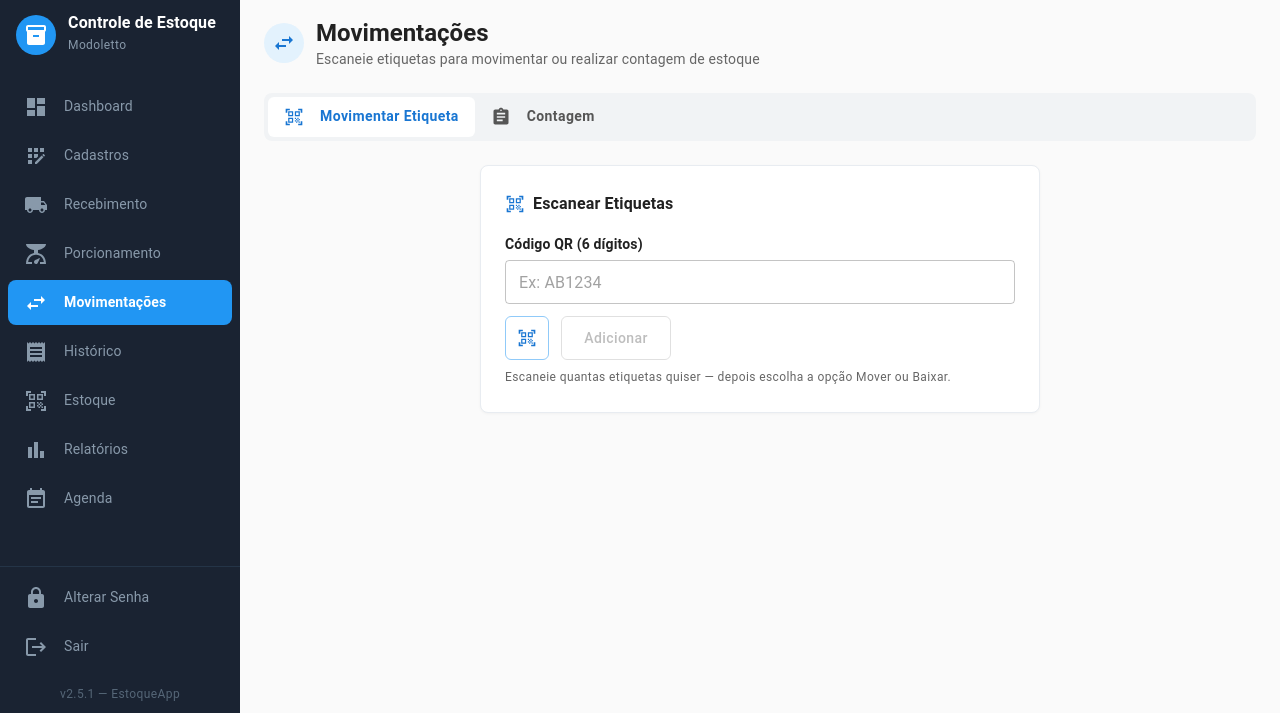
Test: Counting write-offs require a motivo › does not delete anything while the motivo dialog is not confirmed
Click the tab "Contagem": (543, 117) x1=475 y1=97 x2=611 y2=137
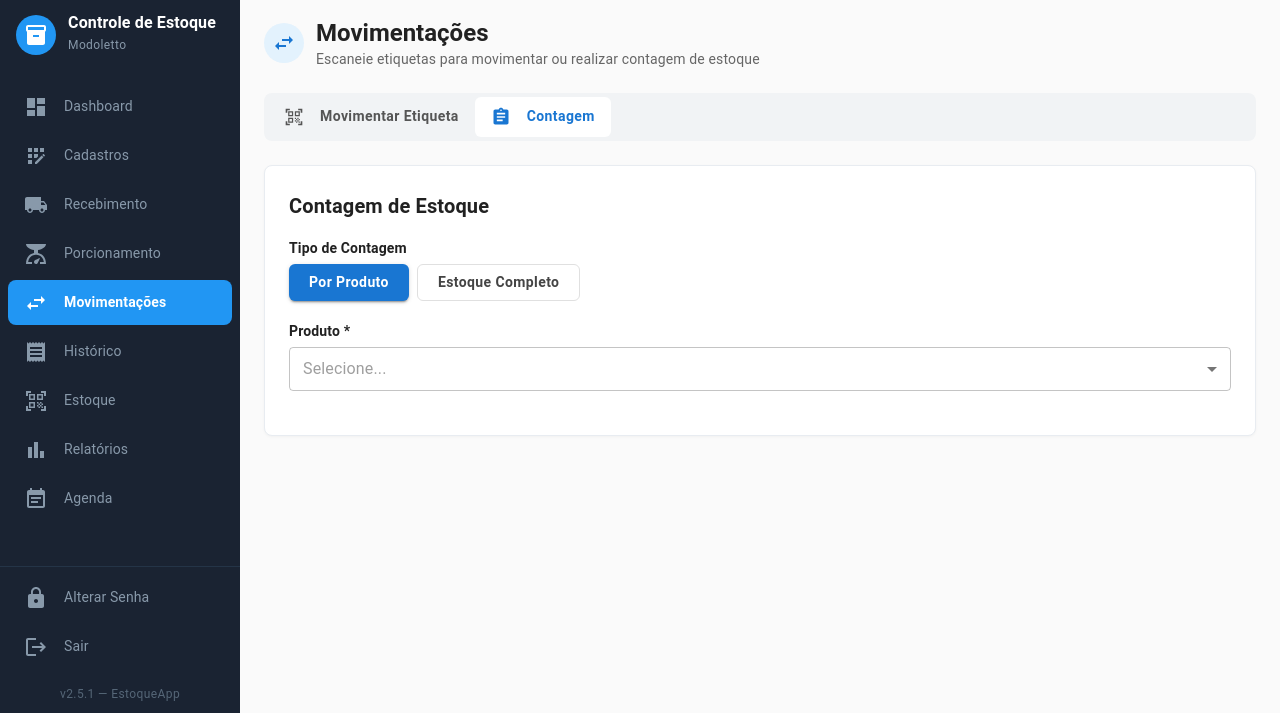
Click the button "Estoque Completo": (499, 282) x1=417 y1=264 x2=580 y2=300
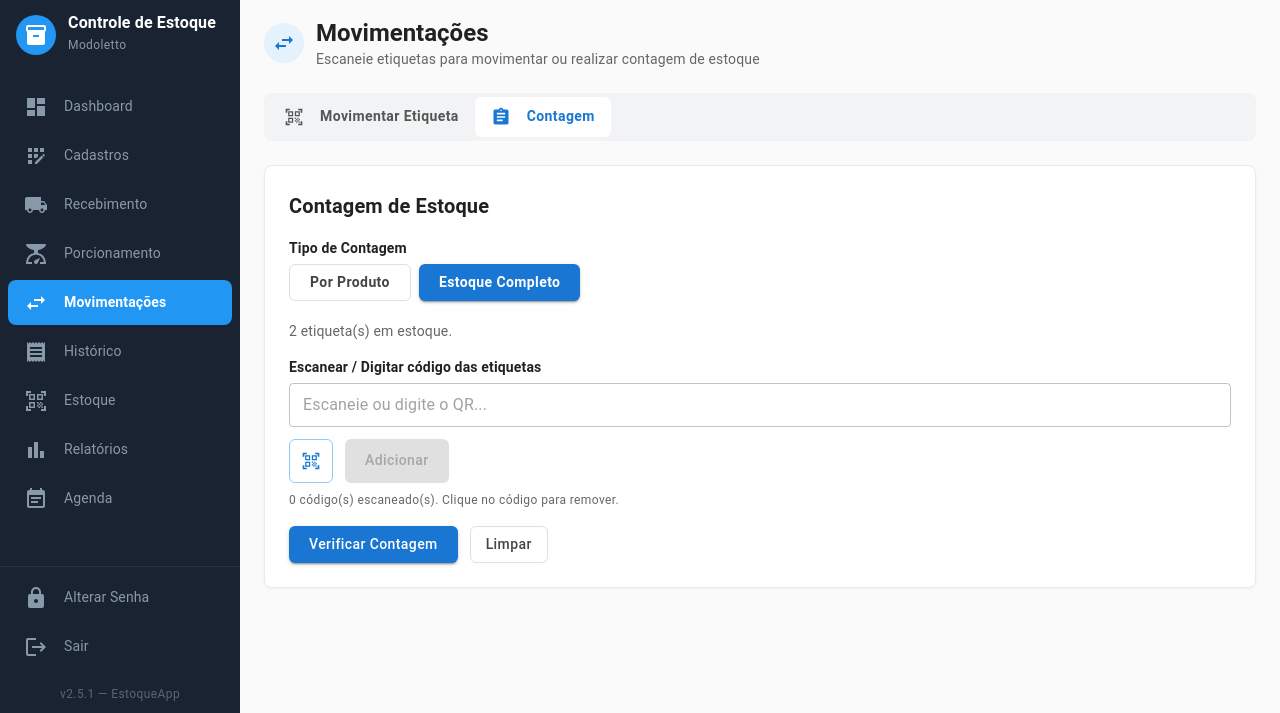
Click the button "Verificar Contagem": (373, 545) x1=289 y1=526 x2=458 y2=563
(page scrolled)
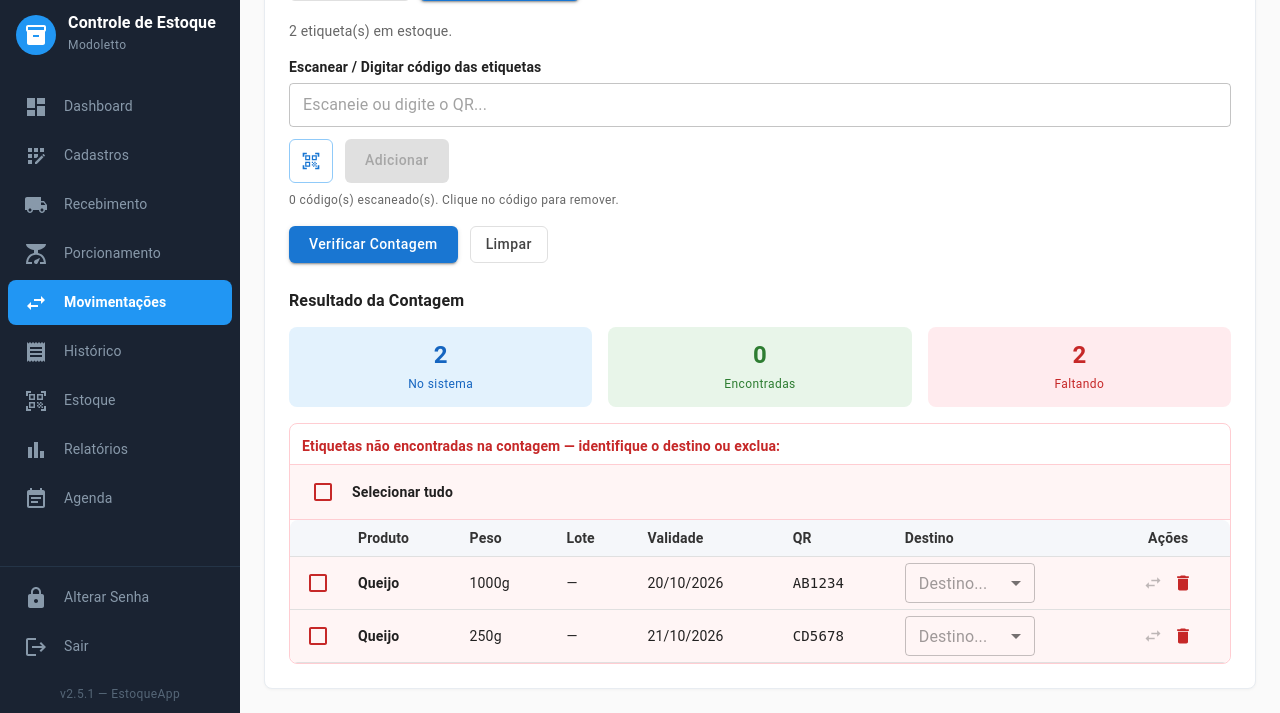
Expected: the number of buttons named "baixar etiqueta" is 2
Click the button named "baixar etiqueta" in the row of "1000g": (1183, 583) x1=1168 y1=568 x2=1198 y2=598
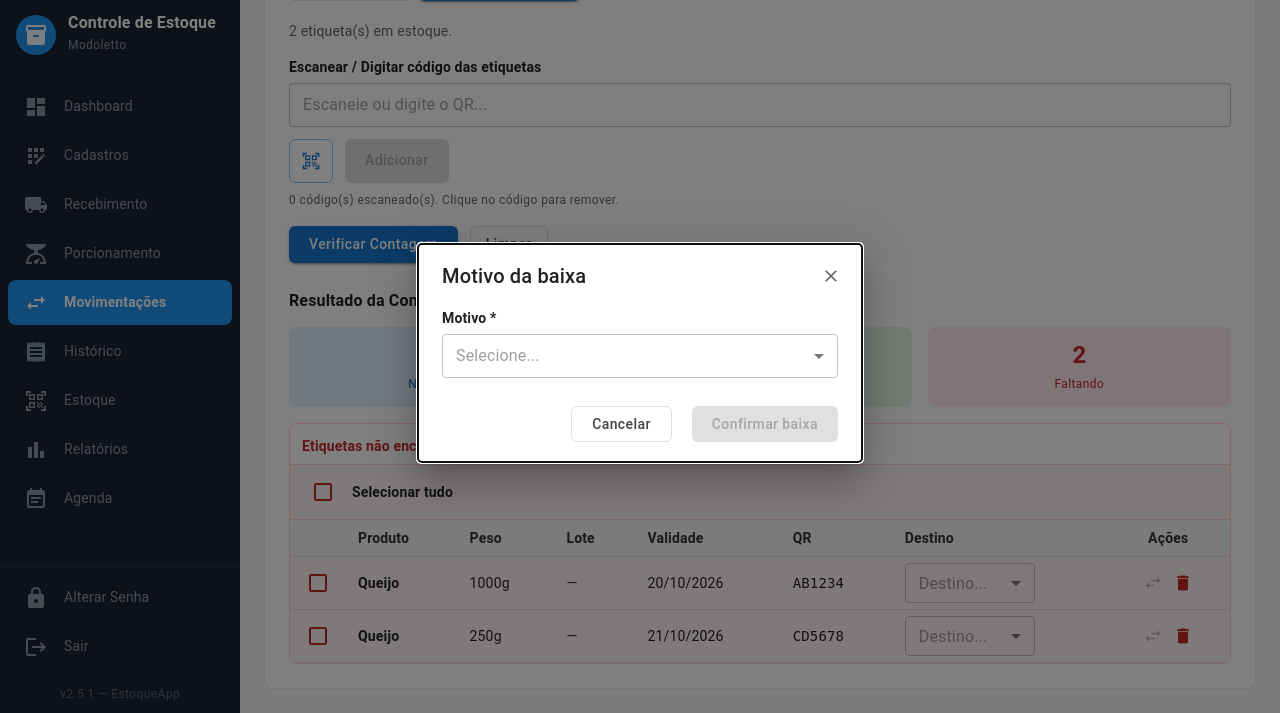
Expected: the button "Confirmar baixa" is disabled, x1=692 y1=406 x2=838 y2=442
Click the button "Cancelar": (621, 424) x1=571 y1=406 x2=672 y2=442
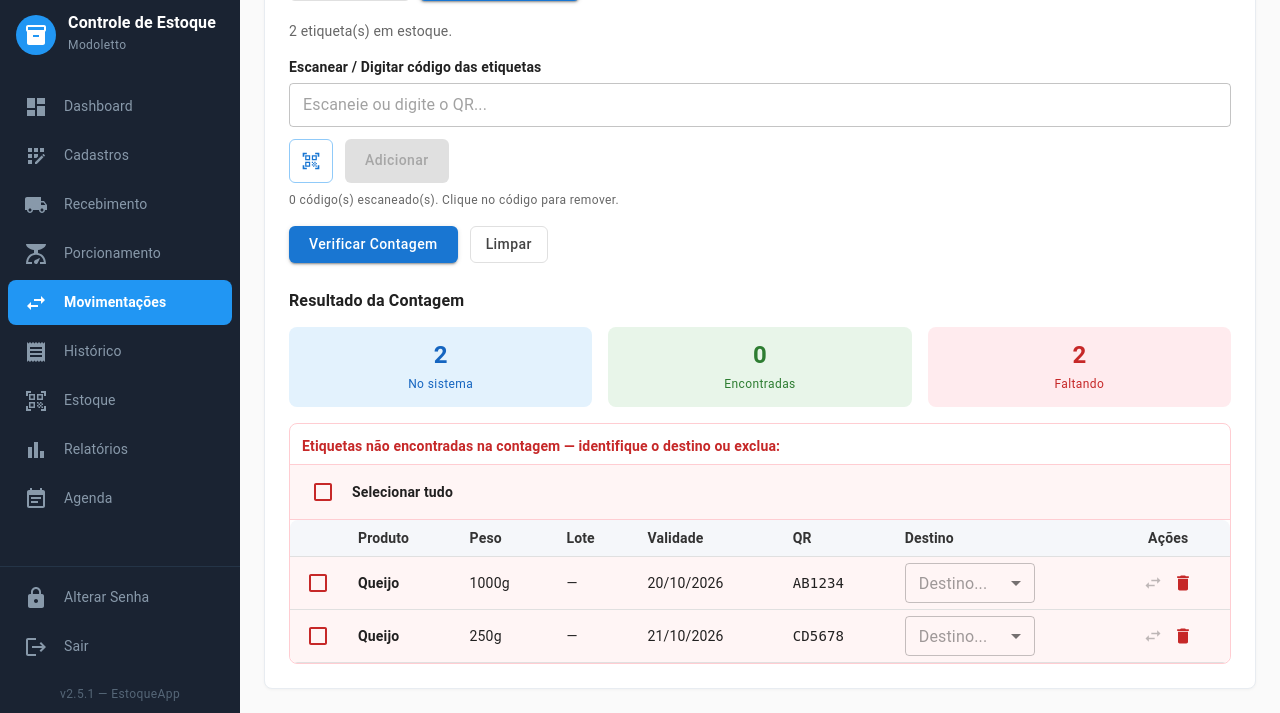
Expected: the heading "Motivo da baixa" is gone
